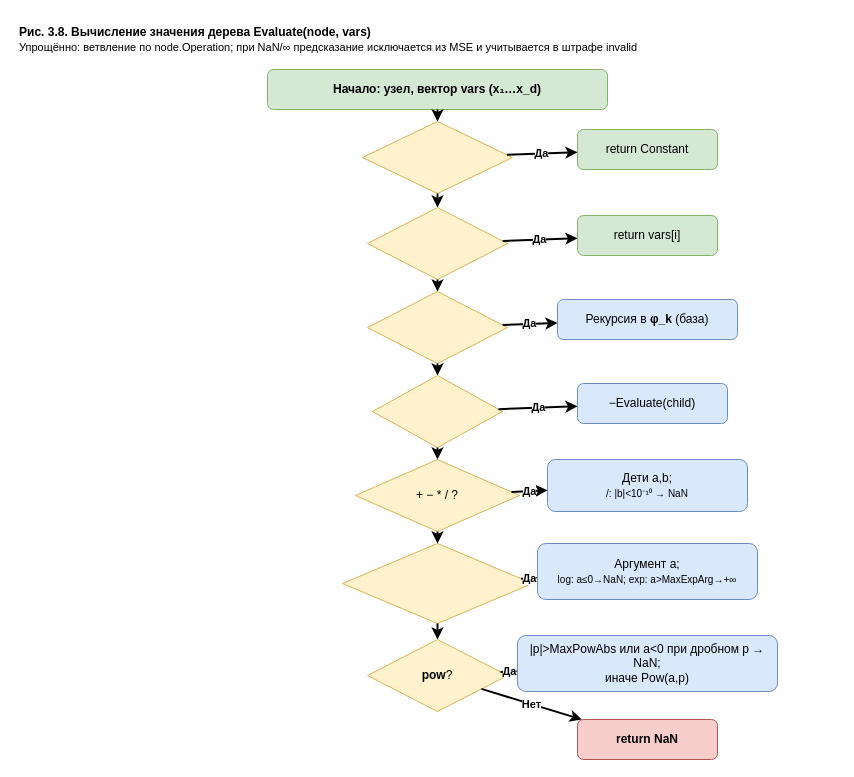
The diagram is 854 pixels wide and 777 high, and some of its shapes have lost their labels. Each missing label, with the centre of its shape:
base ?: (437,327)
const ?: (437,157)
neg ?: (437,411)
sin cos exp log?: (437,583)
var ?: (437,243)
